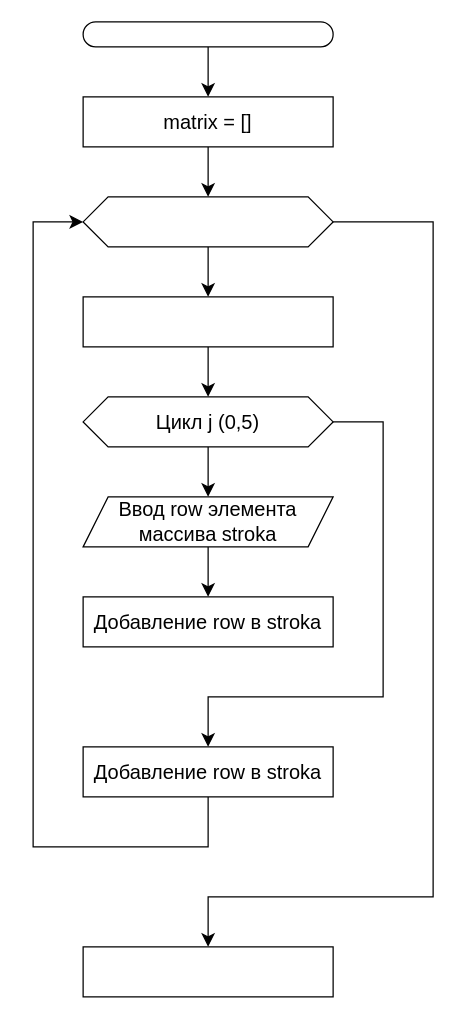
This 468x1019 diagram has some shape labels left out. The shapes that lost their labels are listed below. From the top down, each one's centre as x and y in pixels, then its label:
At point (207, 34): "Начало".
At point (207, 221): "Цикл i (0,5)".
At point (207, 321): "stroka = []".
